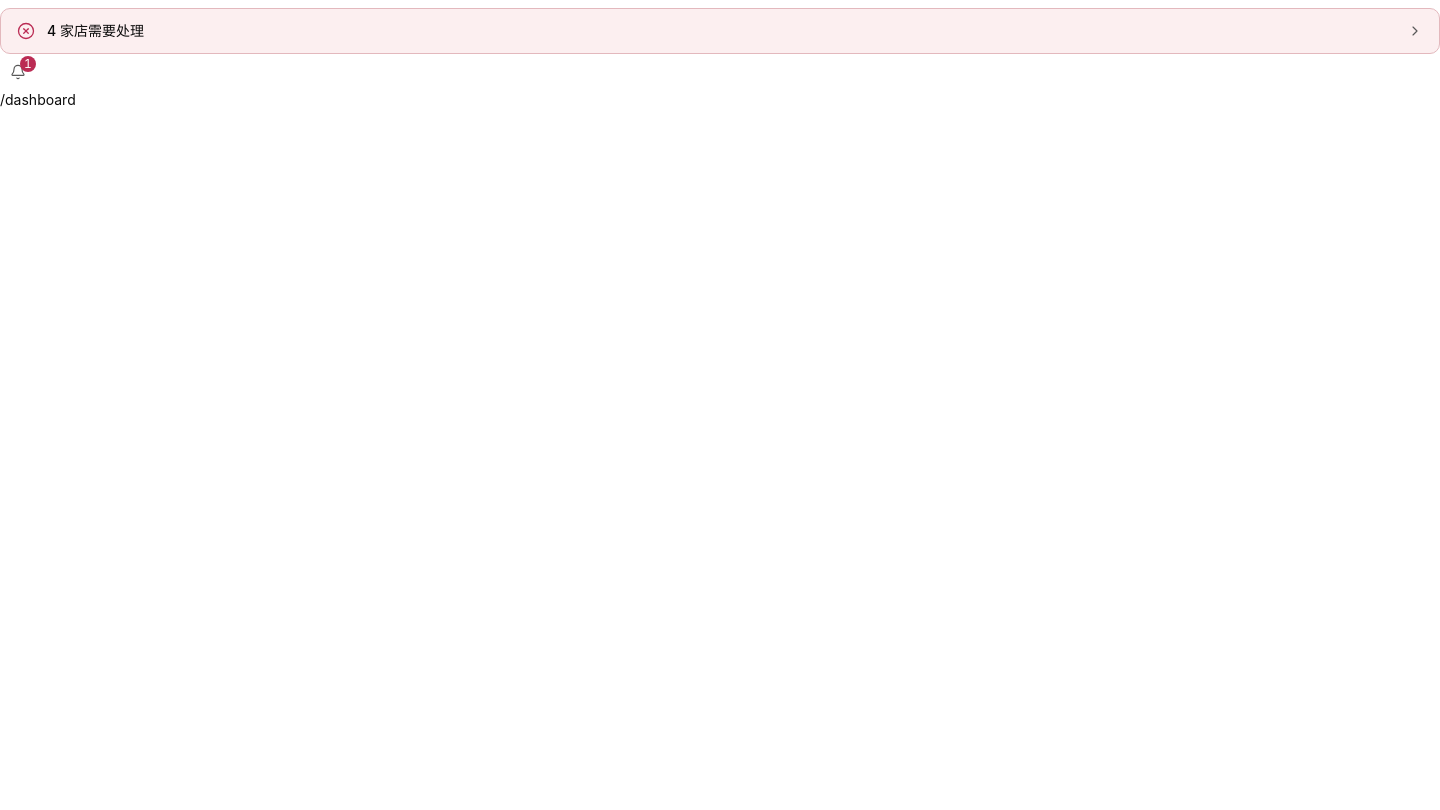
it: 通知面板 › 待处理列出摘要里全部未解决的店（不受列表分页影响），点击跳转
Click the button named "通知": click(18, 72) [0,54,36,90]
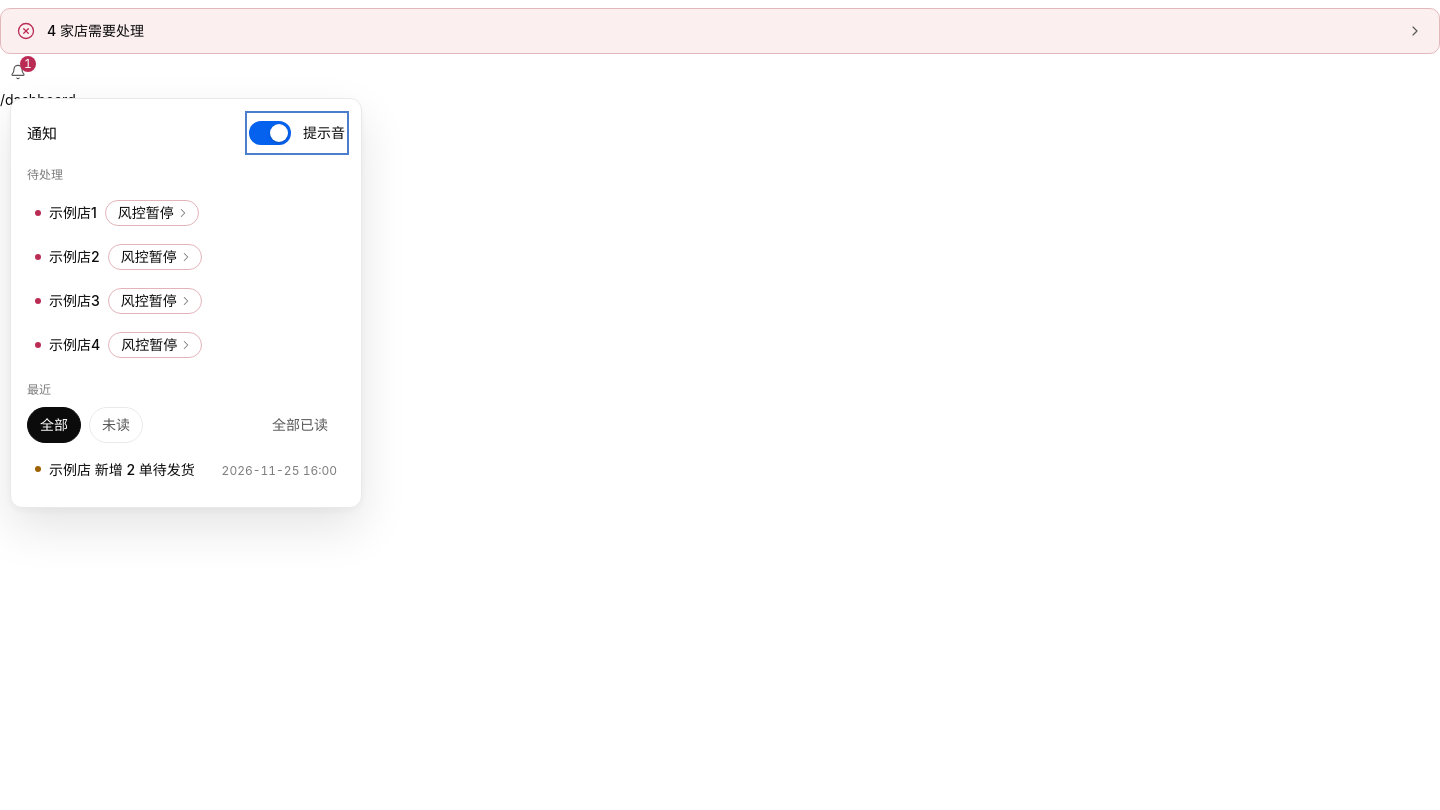
Click the button "风控暂停" next to "示例店3": click(155, 301) [108,288,202,314]
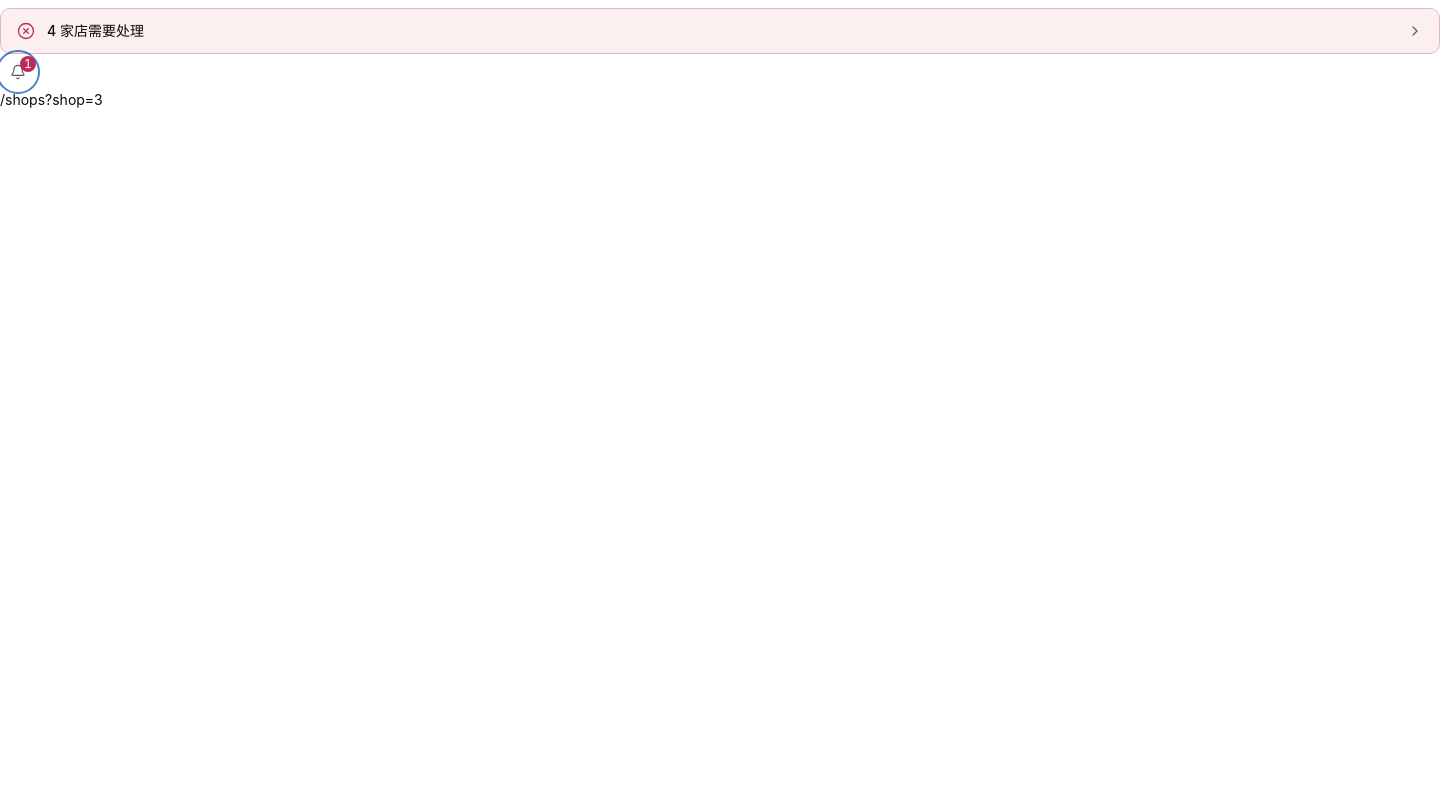
Now the text with test id "where" reads "/shops?shop=3", box [0,91,103,108]
Now the heading "通知" is gone
